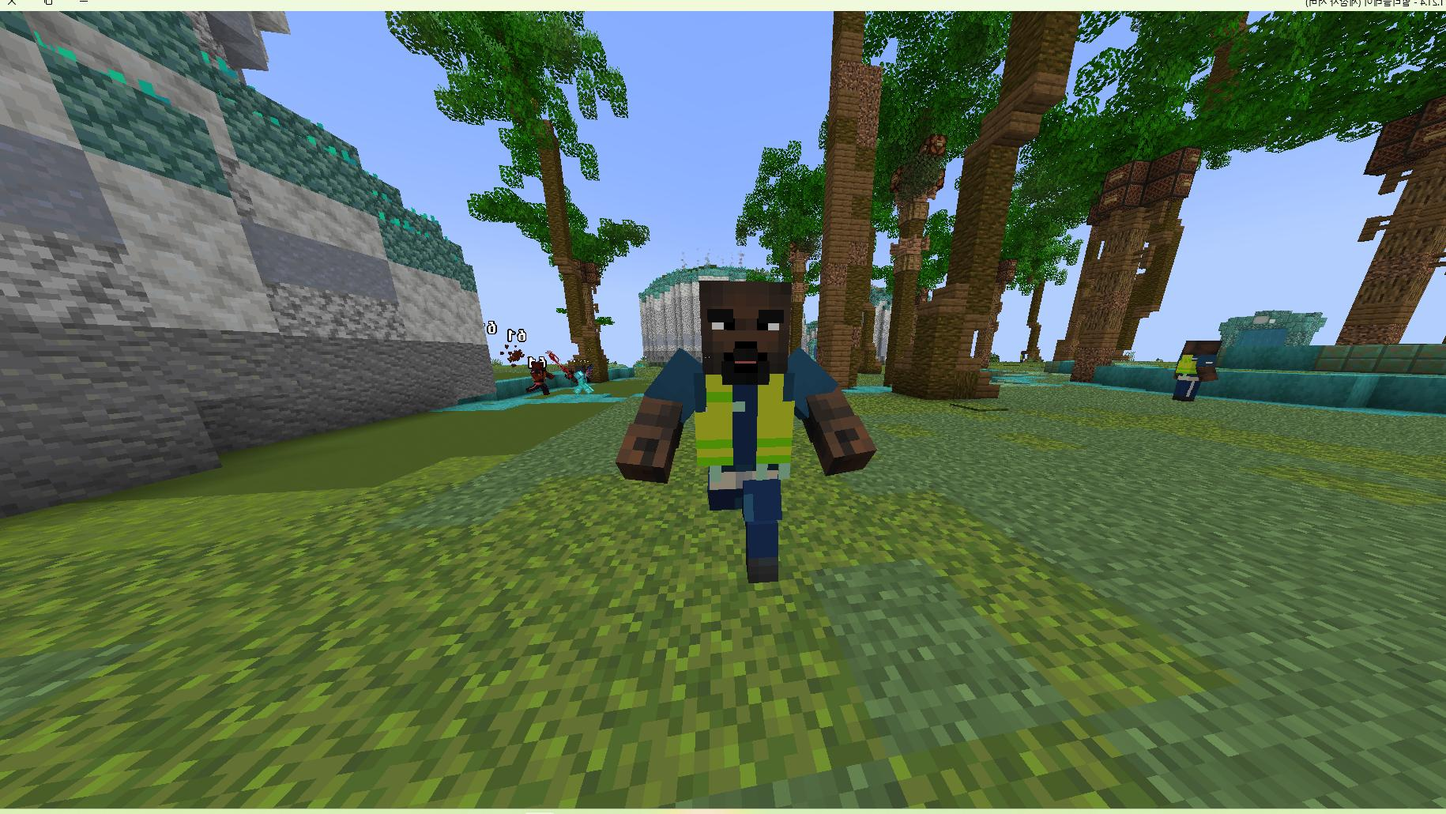Guardian: (617, 282, 875, 582), (1173, 340, 1219, 401)
